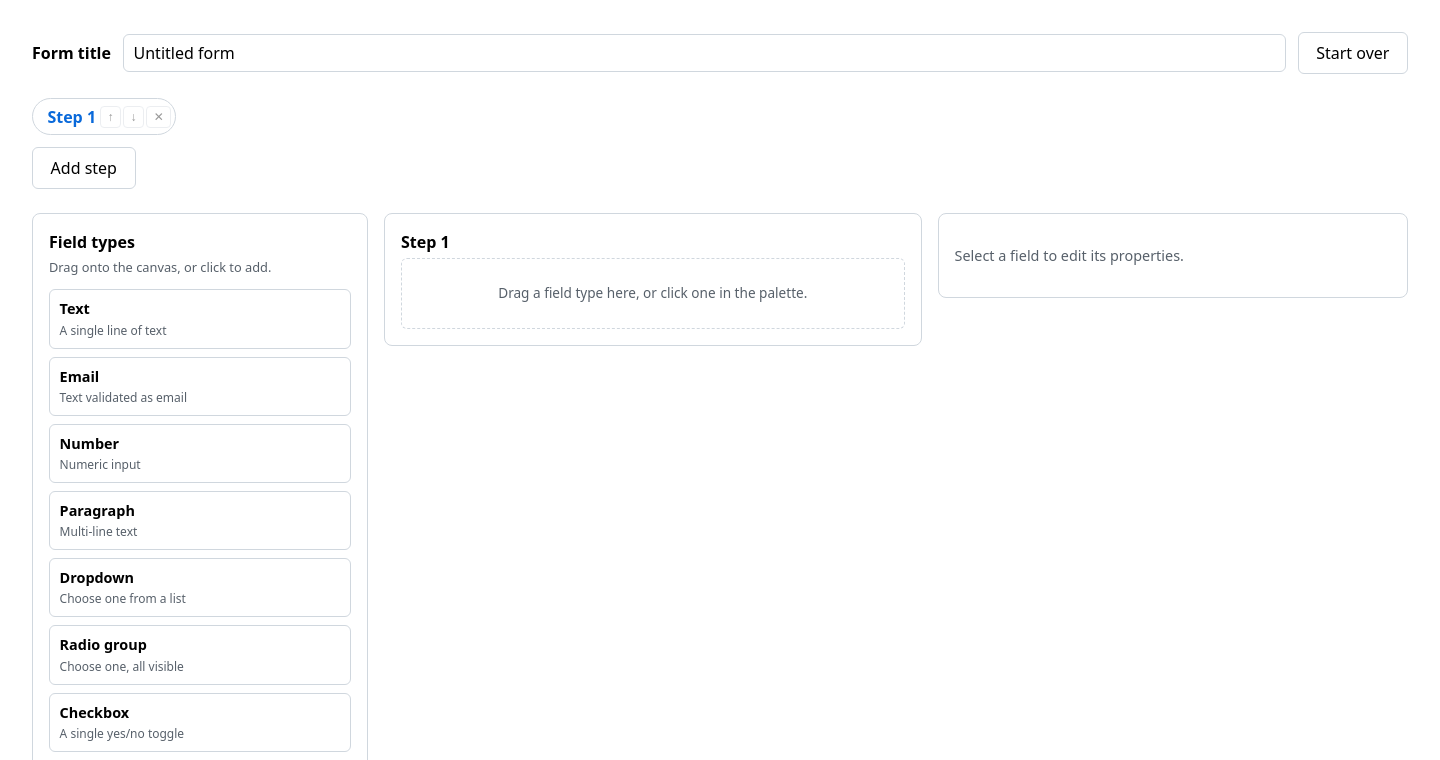
Test: BuilderPage › removing a non-last step drops it from the tabs
This screenshot has width=1440, height=760.
Click the button "Add step" at (84, 168), box x1=32 y1=147 x2=136 y2=189
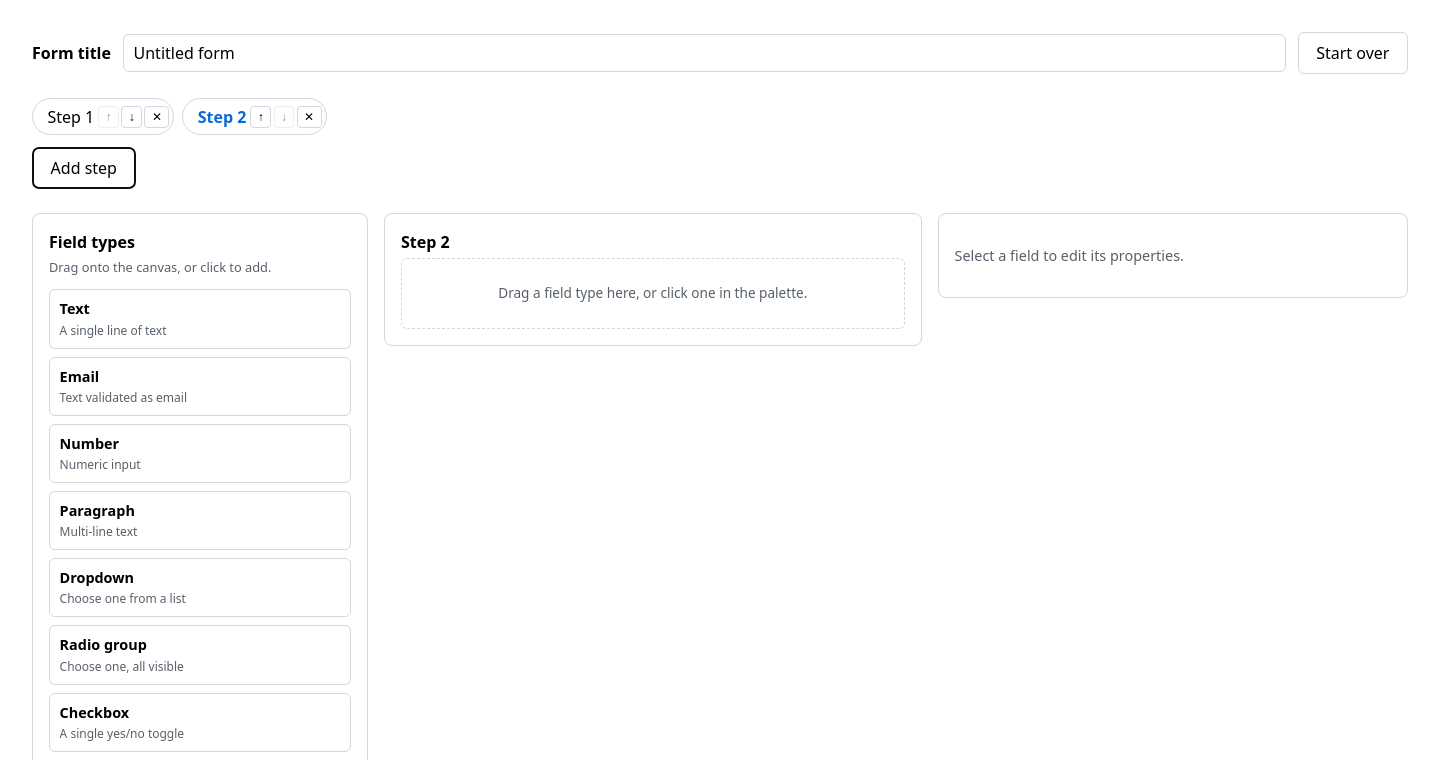
Click the button named "Remove Step 2" at (309, 117), box x1=297 y1=106 x2=322 y2=128
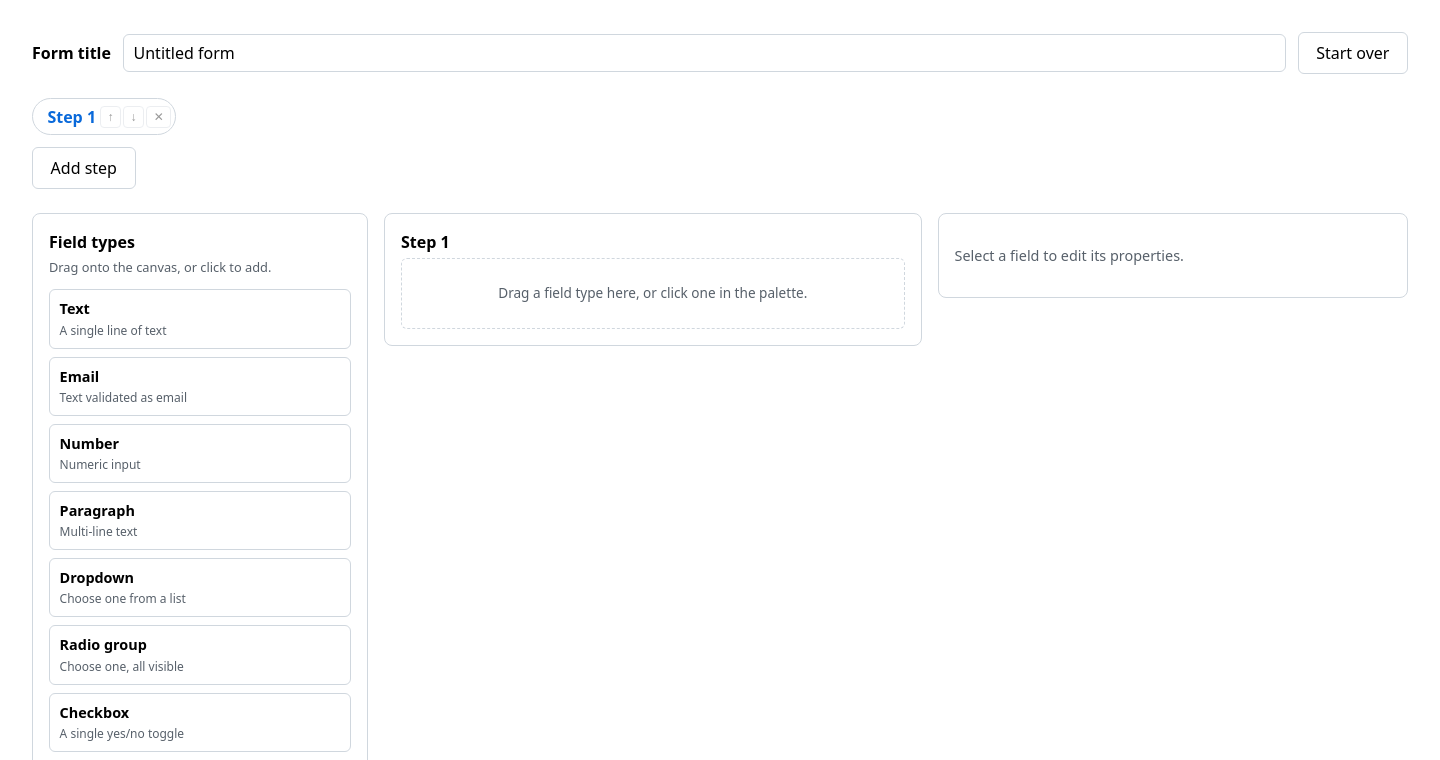
Check: the button "Step 2" is gone
